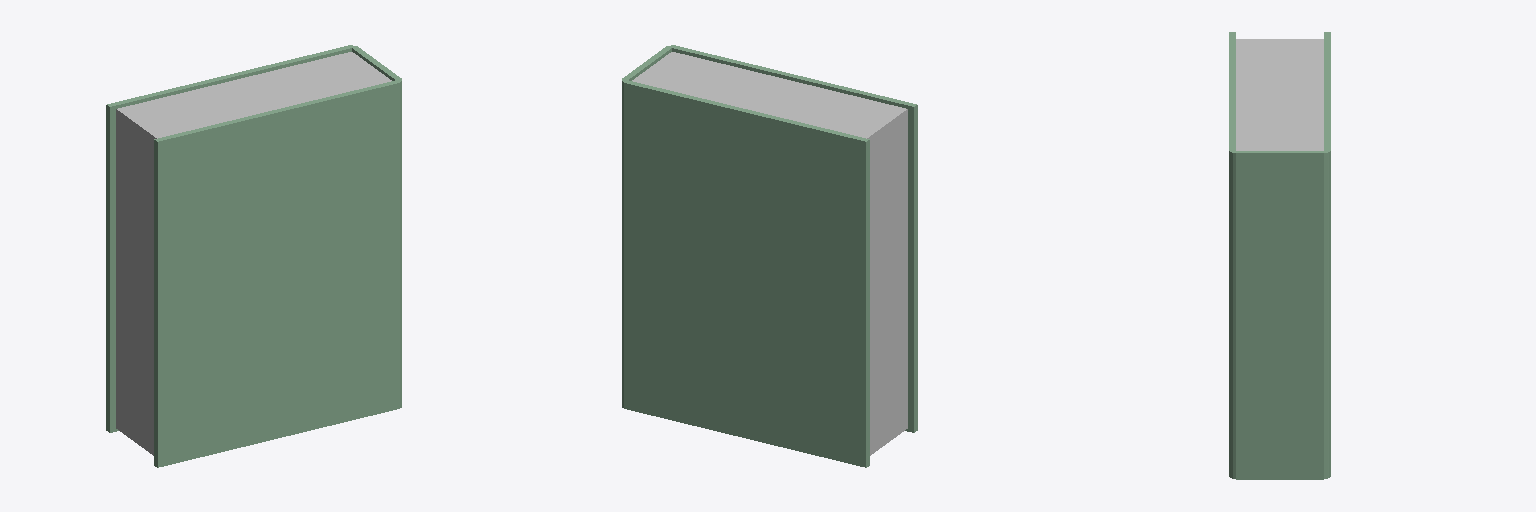
3 views of the same model, side by side, from view 1: azimuth 30°, elevation 25°; view 2: azimuth 150°, elevation 25°; view 3: azimuth 270°, elevation 25° (orthographic).
Parts seen in each view (by area): view 1: Cube, Cube.001; view 2: Cube, Cube.001; view 3: Cube, Cube.001.
Part boxes in pixels (x1,y1,x2,y2): Cube: (106,45,401,467); Cube.001: (116,52,391,455); Cube: (622,45,917,467); Cube.001: (632,52,907,455); Cube: (1229,32,1330,479); Cube.001: (1236,39,1323,150).
Size of the model in its own units: 1.1 by 1.39 by 0.3935.
Materials: 2 (1 with a texture image).